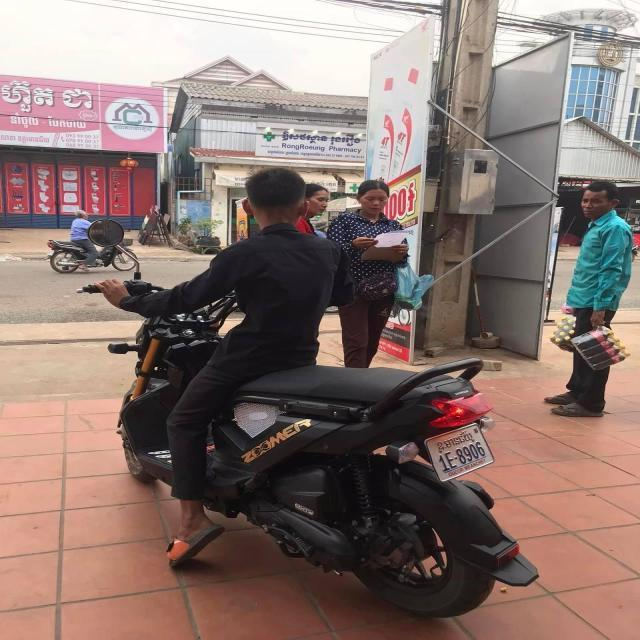Oudor_Meanchey: (434, 429, 475, 449)
